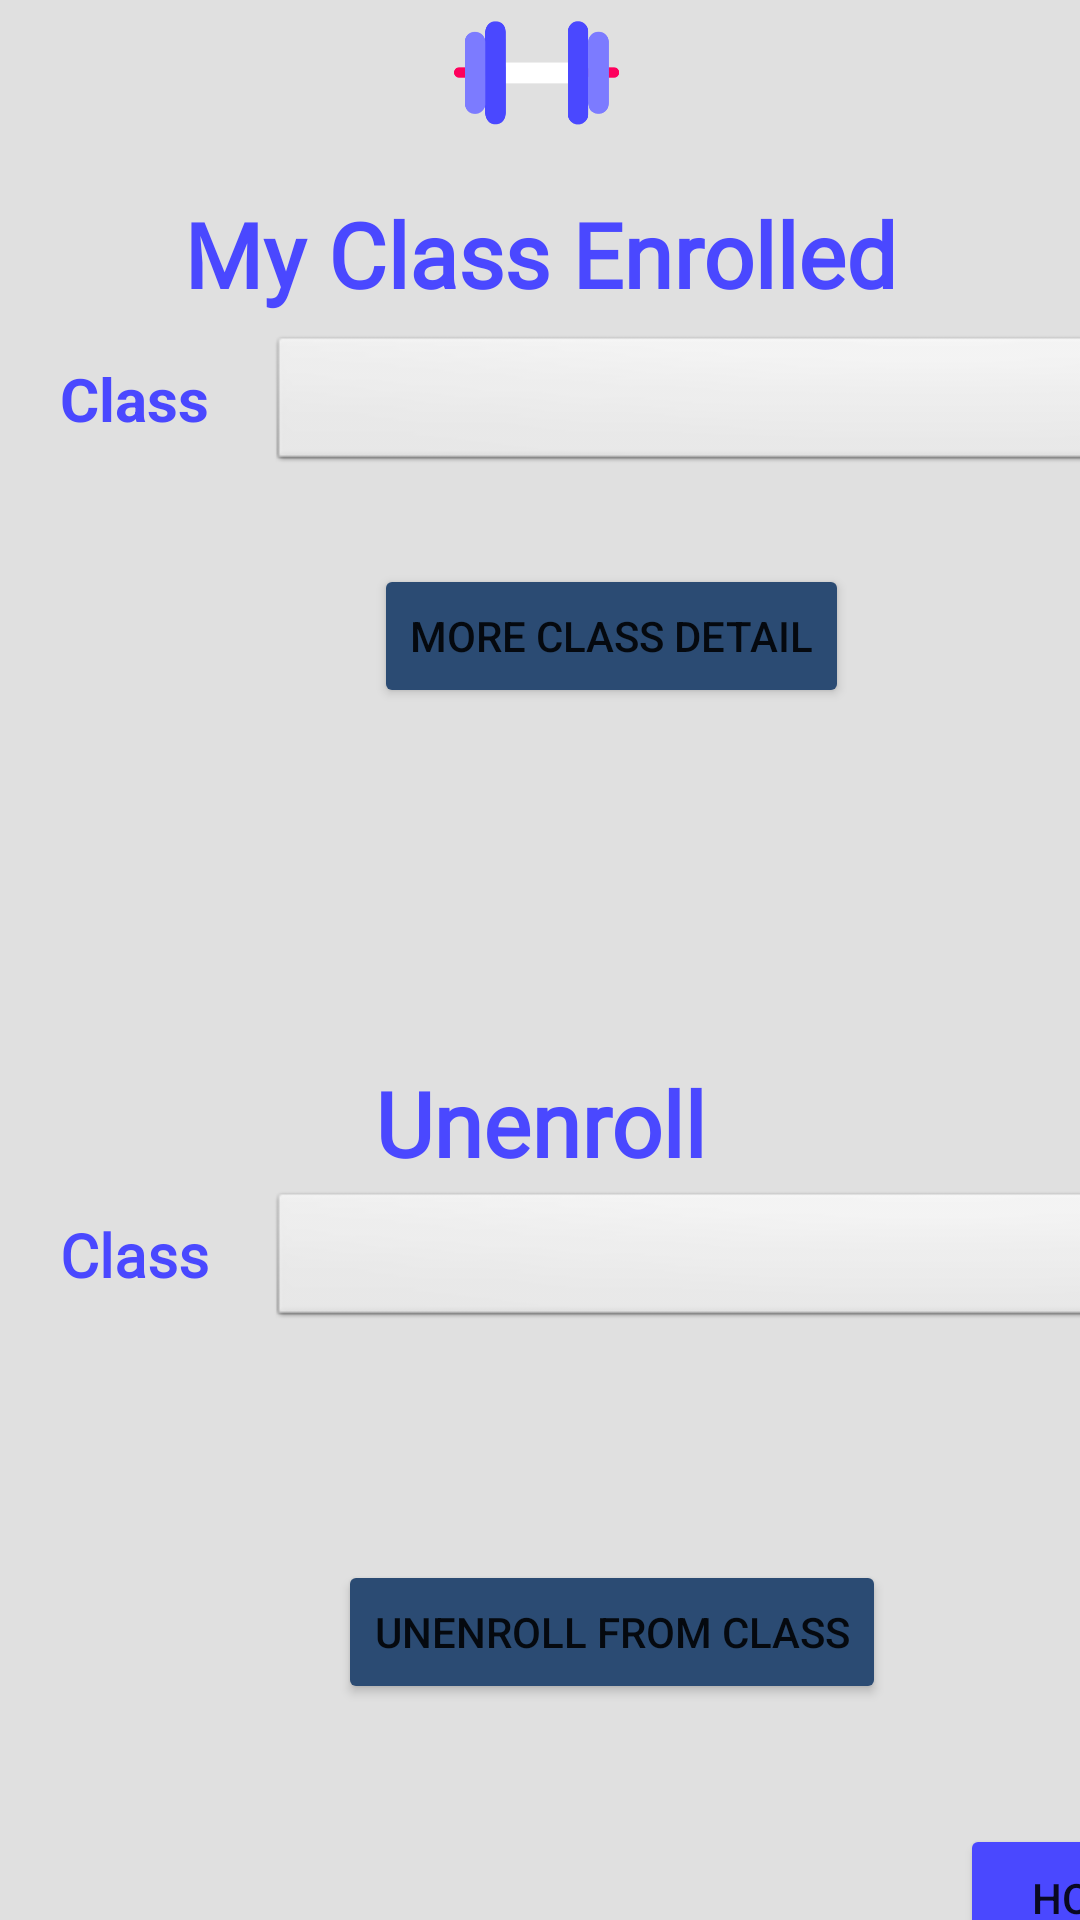

Screen size 1080×1920. Icon name, then its center in pixels as point (x, y):
dumbell purp: point (536, 73)
